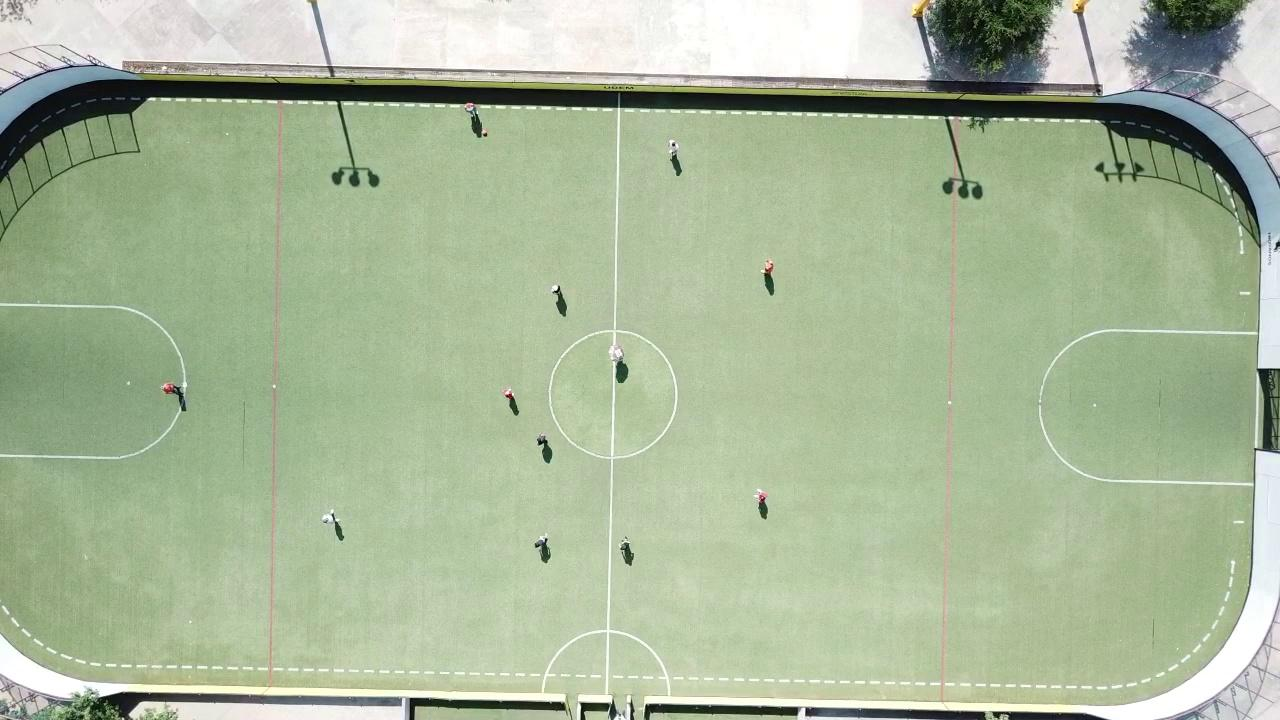ball: (482, 129, 487, 135)
player: (162, 382, 185, 410), (609, 343, 623, 362), (322, 509, 338, 524), (534, 533, 548, 549), (754, 489, 767, 504), (464, 103, 477, 118), (761, 259, 773, 275), (619, 536, 629, 553), (668, 140, 678, 157), (536, 433, 548, 446), (503, 387, 514, 400), (551, 284, 561, 296)
